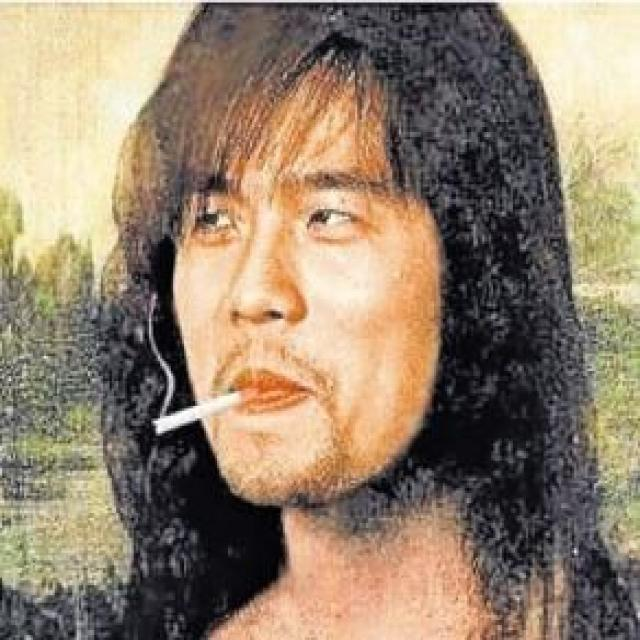cigarette: (148, 385, 272, 436)
